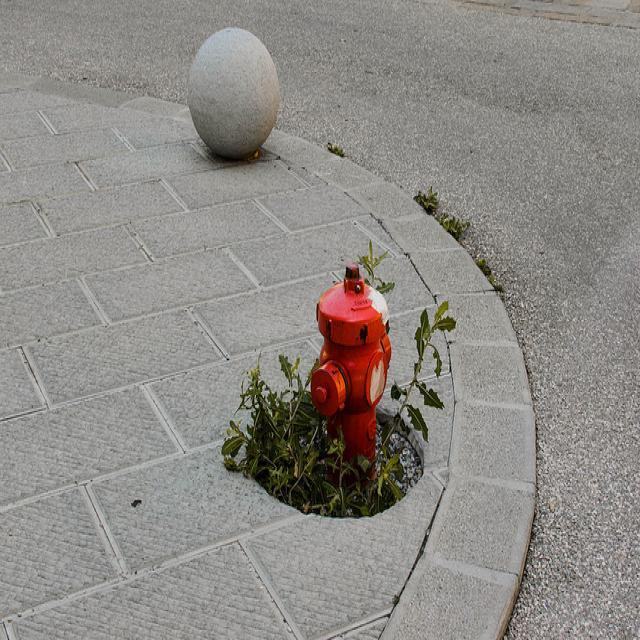fire_hydrant: (308, 256, 395, 480)
